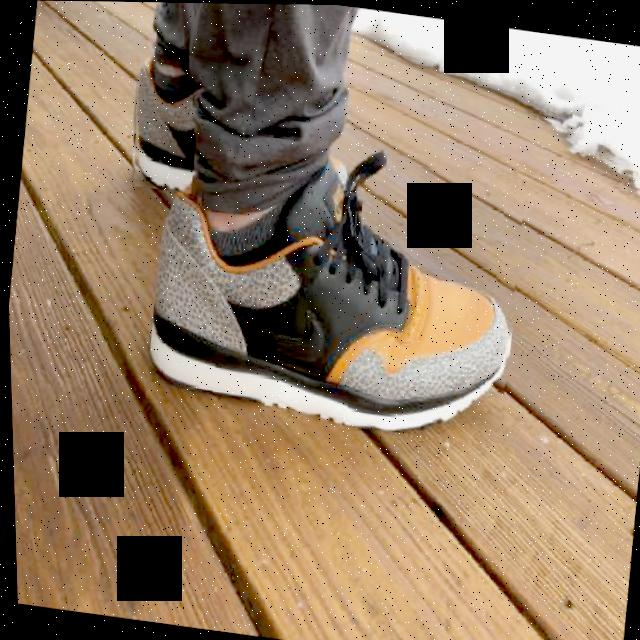shoe: (136, 130, 531, 445), (122, 55, 205, 192)
